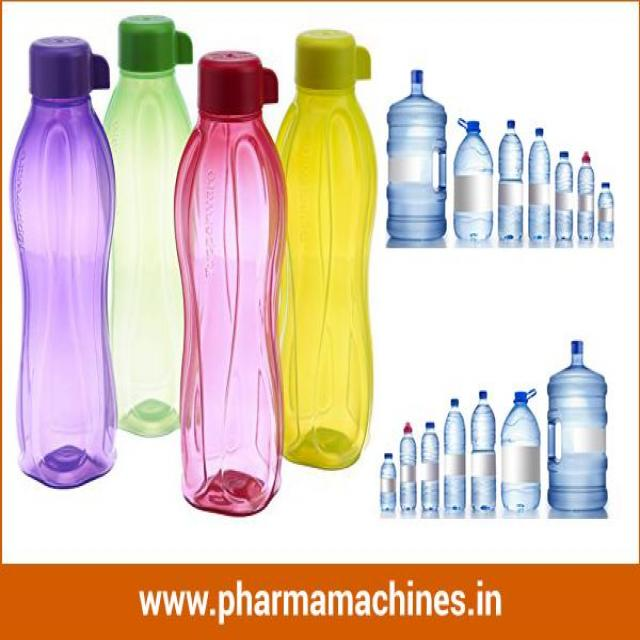plastic_bottle: (188, 63, 280, 498), (18, 53, 115, 462), (282, 45, 372, 462), (113, 28, 194, 430), (386, 72, 449, 244), (551, 347, 606, 509), (457, 119, 502, 243), (505, 405, 539, 518), (528, 131, 552, 245), (501, 125, 524, 242), (472, 398, 495, 515), (451, 401, 466, 516), (423, 423, 442, 512), (401, 427, 418, 515), (558, 157, 575, 243), (583, 159, 597, 247), (378, 461, 398, 516), (600, 188, 615, 239)
